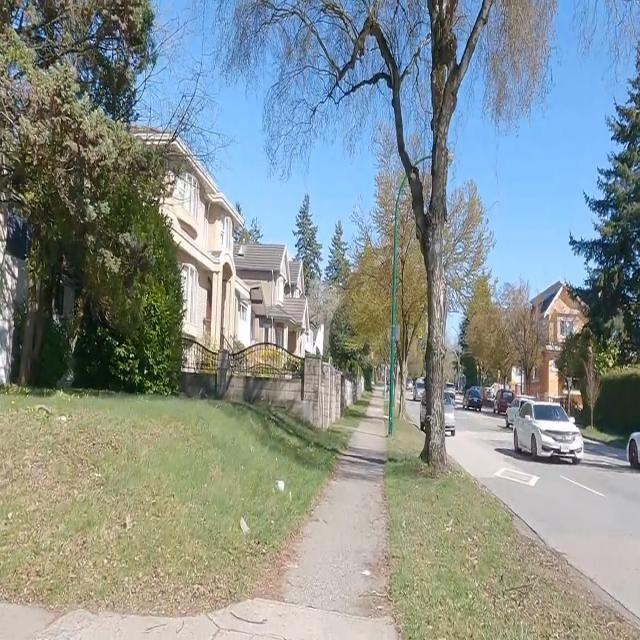Automobile: (512, 400, 583, 463), (505, 398, 526, 429), (493, 389, 512, 415), (627, 431, 639, 468), (463, 385, 480, 411), (444, 390, 453, 435)
Road: (447, 410, 639, 616)
Sidewalk: (280, 390, 386, 613), (0, 598, 396, 639)
